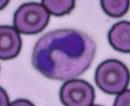N: (32, 28, 96, 79)
